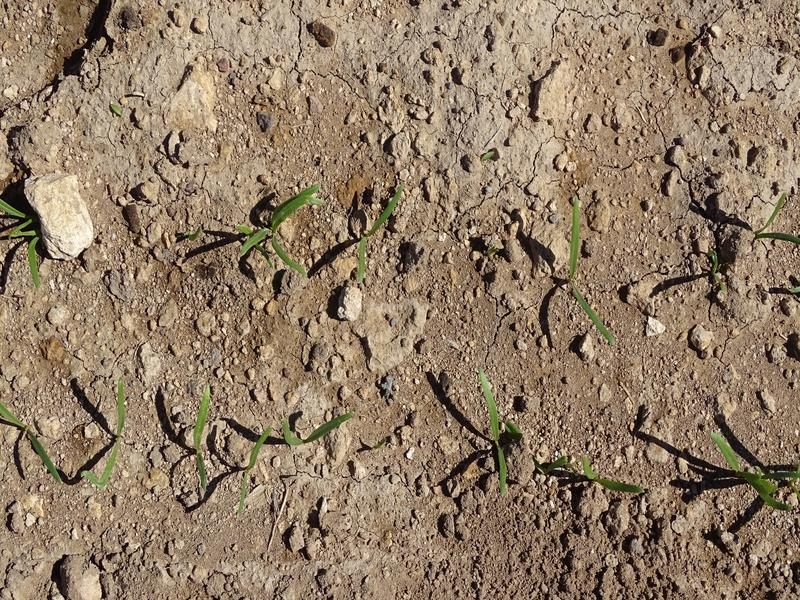Espinaca: (565, 197, 618, 349), (704, 428, 797, 512), (235, 182, 314, 276), (88, 373, 135, 488), (2, 404, 68, 484), (475, 365, 515, 497), (355, 184, 409, 281), (4, 206, 45, 290), (233, 425, 271, 510), (275, 409, 355, 447), (576, 452, 643, 497), (190, 382, 216, 491), (755, 191, 796, 247)
